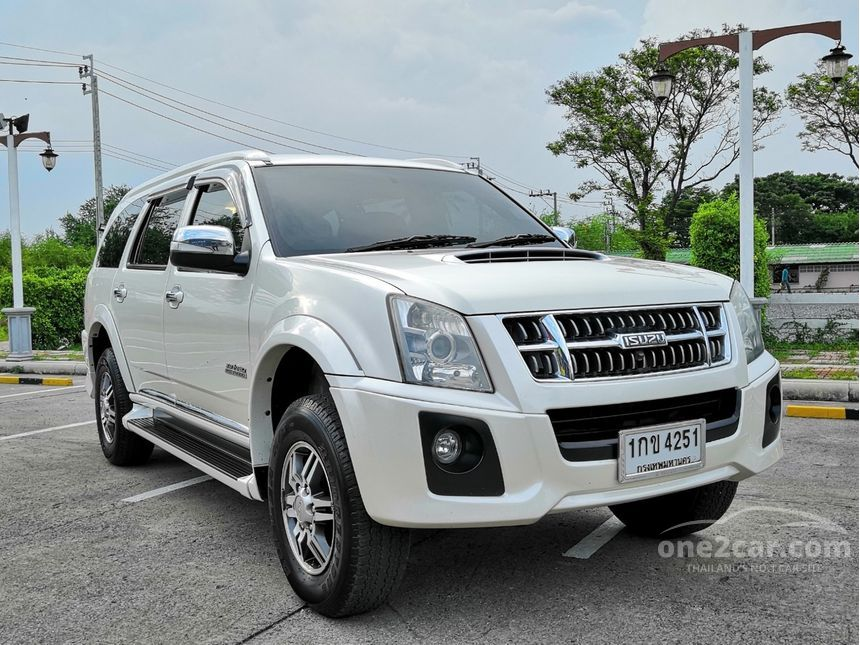pickup: (81, 147, 784, 621)
